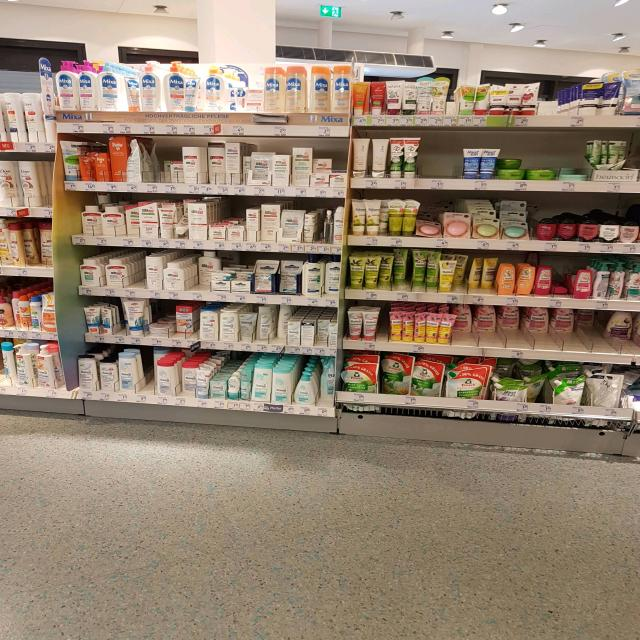empty: (420, 136, 462, 180), (237, 61, 264, 111), (536, 84, 575, 116), (131, 349, 156, 393), (152, 297, 175, 342), (118, 258, 145, 288)
